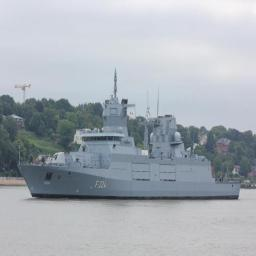Fragata: (16, 66, 242, 203)
